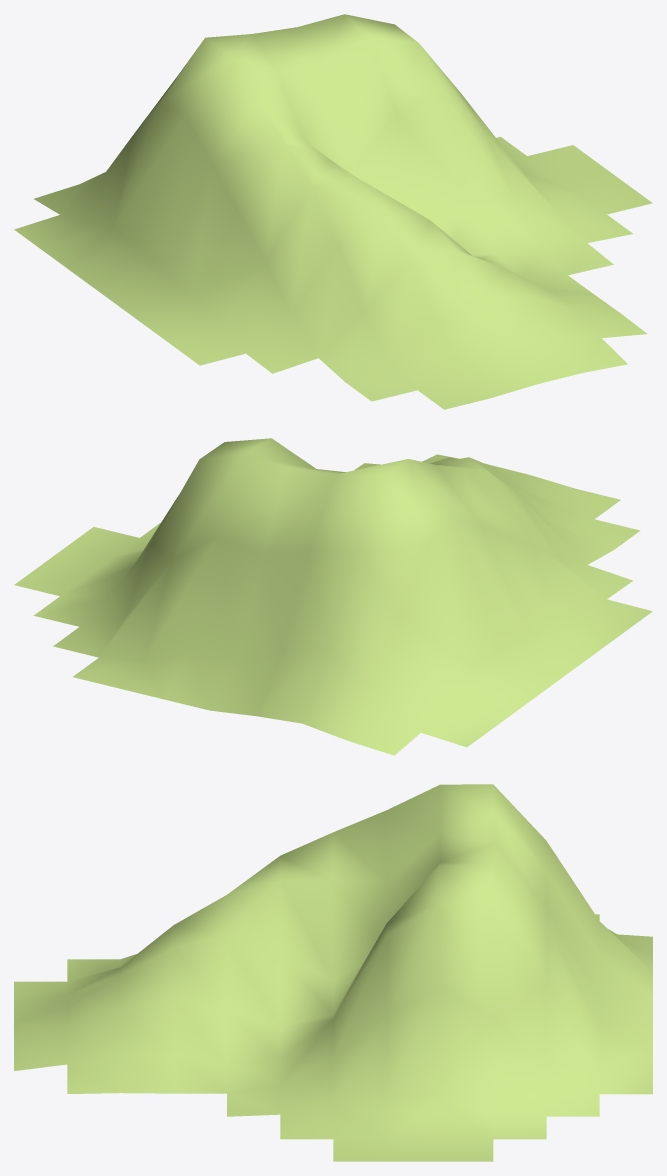
The picture shows the model from 3 angles, top to bottom: view 1: azimuth 30°, elevation 25°; view 2: azimuth 150°, elevation 25°; view 3: azimuth 270°, elevation 25°; orthographic projection.
Parts seen in each view (by area): view 1: Terrain_2_baking; view 2: Terrain_2_baking; view 3: Terrain_2_baking.
Boxes of the visible parts, <box> form: Terrain_2_baking: <box>14,14,652,409</box>; Terrain_2_baking: <box>14,438,652,755</box>; Terrain_2_baking: <box>14,784,652,1161</box>.
Size of the model in its own units: 8594 by 3198 by 9375.
